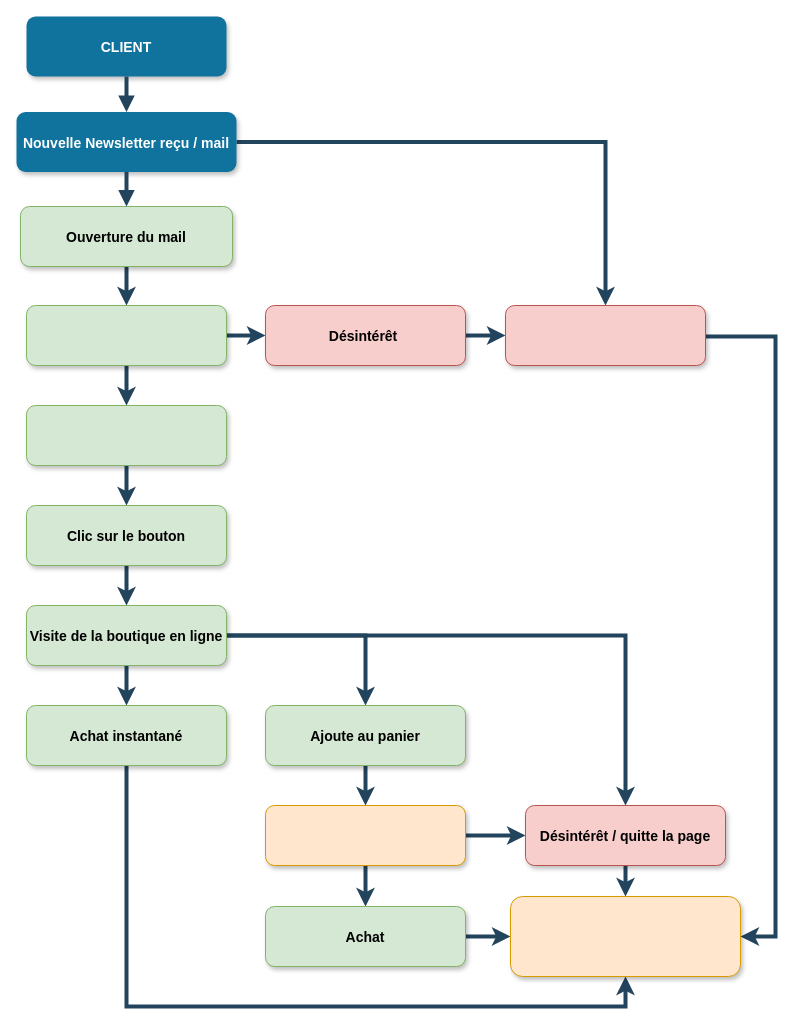
Image size: 792x1023. Some labels were removed from this diagram. The centre of each missing label's shape, as x and y in pixels:
"Intérêt" belongs at pixel 127 436.
"Lecture du contenu" belongs at pixel 127 336.
"Rappel par mail du panier" belongs at pixel 366 836.
"Renvoie d'une nouvelle Newsletters sur un autre thème 1 semaine après" belongs at pixel 626 938.
"Suppression du mail" belongs at pixel 606 336.
